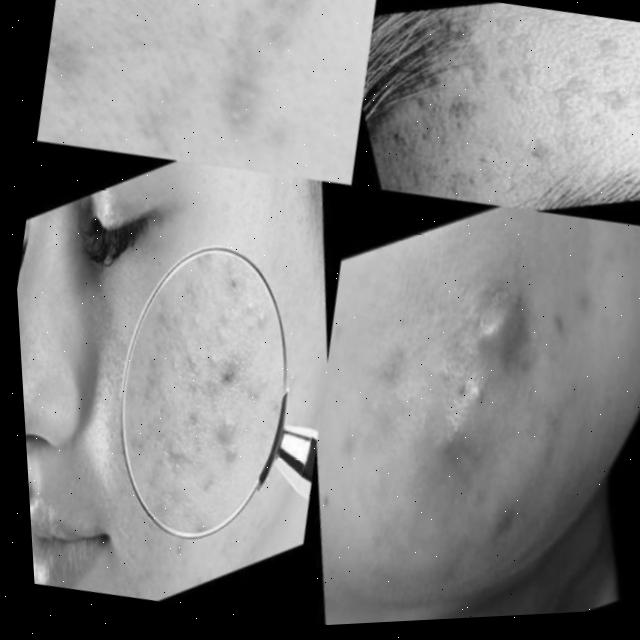Acne: (24, 0, 333, 211), (368, 249, 580, 498), (429, 5, 640, 199), (115, 285, 271, 518)
